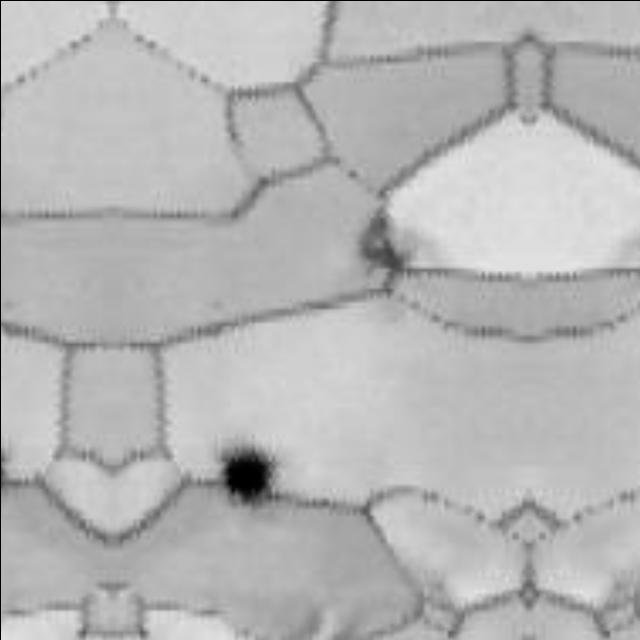good_void: (219, 438, 275, 509), (361, 207, 414, 280)
